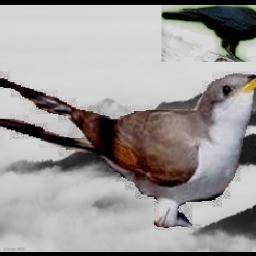Crow: (162, 5, 256, 62)
Cuckoo: (0, 71, 256, 230)
